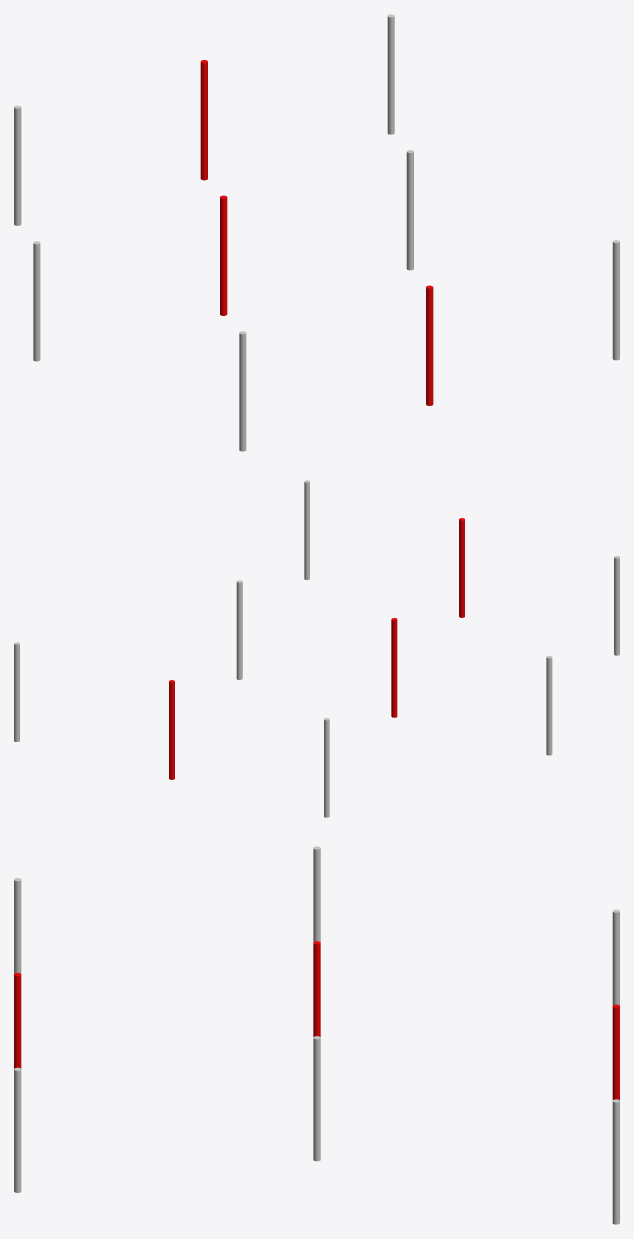
The picture shows the model from 3 angles, top to bottom: view 1: azimuth 30°, elevation 25°; view 2: azimuth 150°, elevation 25°; view 3: azimuth 270°, elevation 25°; orthographic projection. The views are drawn at different scales.
Parts seen in each view (by area): view 1: Cylinder.008, Cylinder, Cylinder.003, Cylinder.007, Cylinder.005, Cylinder.004, Cylinder.001, Cylinder.006, Cylinder.002; view 2: Cylinder.003, Cylinder.005, Cylinder.004, Cylinder.007, Cylinder.001, Cylinder.006, Cylinder.002, Cylinder.008, Cylinder; view 3: Cylinder.008, Cylinder.005, Cylinder.002, Cylinder.007, Cylinder.004, Cylinder.003, Cylinder.006, Cylinder.001, Cylinder.
Part boxes in pixels (x1,y1,x2,y2): Cylinder.008: (387, 14, 394, 134); Cylinder: (239, 331, 246, 451); Cylinder.003: (33, 241, 40, 361); Cylinder.007: (200, 60, 207, 180); Cylinder.005: (406, 150, 413, 270); Cylinder.004: (220, 195, 227, 315); Cylinder.001: (426, 285, 433, 405); Cylinder.006: (14, 105, 21, 225); Cylinder.002: (612, 240, 619, 360); Cylinder.003: (546, 655, 552, 755); Cylinder.005: (236, 580, 242, 679); Cylinder.004: (391, 618, 397, 717); Cylinder.007: (169, 680, 174, 779); Cylinder.001: (459, 518, 464, 617); Cylinder.006: (324, 718, 329, 817); Cylinder.002: (304, 480, 309, 579); Cylinder.008: (14, 642, 19, 741); Cylinder: (614, 556, 619, 655); Cylinder.008: (612, 1099, 619, 1224); Cylinder.005: (313, 1036, 320, 1161); Cylinder.002: (14, 1067, 21, 1192); Cylinder.007: (612, 1004, 619, 1100); Cylinder.004: (313, 941, 320, 1036); Cylinder.003: (313, 846, 320, 941); Cylinder.006: (612, 909, 619, 1005); Cylinder.001: (14, 973, 21, 1068); Cylinder: (14, 878, 21, 973).
Size of the model in its own units: 4.05 by 4.05 by 0.9.
